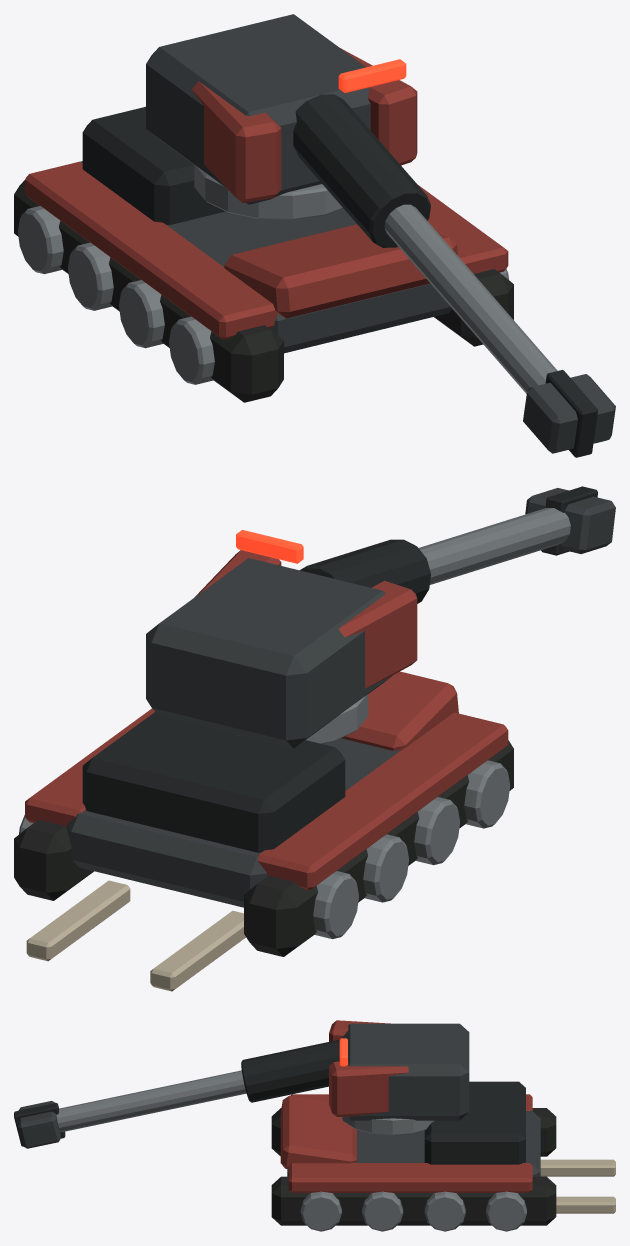
Rendered from ff_en_art_01_v1.glb.
3 views of the same model, one above another, from view 1: azimuth 30°, elevation 25°; view 2: azimuth 150°, elevation 25°; view 3: azimuth 270°, elevation 25° (orthographic). The views are drawn at different scales.
Parts seen in each view (by area): view 1: FF_EN_ART_01_M_EnemyCrimsonArmor_runtime, turret_yaw_M_EnemyObsidianArmor_runtime, turret_yaw_M_EnemyGunmetal_runtime, turret_yaw_M_EnemyRecess_runtime, FF_EN_ART_01_M_EnemyObsidianArmor_runtime, turret_yaw_M_EnemyCrimsonArmor_runtime, FF_EN_ART_01_M_EnemyGunmetal_runtime, FF_EN_ART_01_M_EnemyRecess_runtime, FF_EN_ART_01_M_EnemyTrack_runtime, turret_yaw_M_EnemySignal_runtime; view 2: turret_yaw_M_EnemyObsidianArmor_runtime, FF_EN_ART_01_M_EnemyRecess_runtime, FF_EN_ART_01_M_EnemyCrimsonArmor_runtime, FF_EN_ART_01_M_EnemyObsidianArmor_runtime, FF_EN_ART_01_M_EnemyTrack_runtime, FF_EN_ART_01_M_EnemyGunmetal_runtime, turret_yaw_M_EnemyGunmetal_runtime, FF_EN_ART_01_M_EnemyMarking_runtime, turret_yaw_M_EnemyCrimsonArmor_runtime, turret_yaw_M_EnemyRecess_runtime, turret_yaw_M_EnemySignal_runtime; view 3: FF_EN_ART_01_M_EnemyCrimsonArmor_runtime, turret_yaw_M_EnemyObsidianArmor_runtime, FF_EN_ART_01_M_EnemyRecess_runtime, FF_EN_ART_01_M_EnemyTrack_runtime, turret_yaw_M_EnemyGunmetal_runtime, FF_EN_ART_01_M_EnemyGunmetal_runtime, turret_yaw_M_EnemyRecess_runtime, turret_yaw_M_EnemyCrimsonArmor_runtime, FF_EN_ART_01_M_EnemyObsidianArmor_runtime, FF_EN_ART_01_M_EnemyMarking_runtime.
Boxes of the visible parts, x1,y1,x2,y2 form: FF_EN_ART_01_M_EnemyCrimsonArmor_runtime: (25,161,508,339); turret_yaw_M_EnemyObsidianArmor_runtime: (146,14,615,453); turret_yaw_M_EnemyGunmetal_runtime: (194,165,557,393); turret_yaw_M_EnemyRecess_runtime: (293,94,597,457); FF_EN_ART_01_M_EnemyObsidianArmor_runtime: (80,161,452,353); turret_yaw_M_EnemyCrimsonArmor_runtime: (192,48,417,203); FF_EN_ART_01_M_EnemyGunmetal_runtime: (17,206,508,384); FF_EN_ART_01_M_EnemyRecess_runtime: (82,106,225,225); FF_EN_ART_01_M_EnemyTrack_runtime: (14,180,513,402); turret_yaw_M_EnemySignal_runtime: (338,59,406,92); turret_yaw_M_EnemyObsidianArmor_runtime: (146,488,615,748); FF_EN_ART_01_M_EnemyRecess_runtime: (82,712,345,852); FF_EN_ART_01_M_EnemyCrimsonArmor_runtime: (25,671,508,890); FF_EN_ART_01_M_EnemyObsidianArmor_runtime: (66,738,401,907); FF_EN_ART_01_M_EnemyTrack_runtime: (14,740,513,956); FF_EN_ART_01_M_EnemyGunmetal_runtime: (19,760,510,939); turret_yaw_M_EnemyGunmetal_runtime: (236,508,570,744); FF_EN_ART_01_M_EnemyMarking_runtime: (26,880,245,991); turret_yaw_M_EnemyCrimsonArmor_runtime: (194,550,417,688); turret_yaw_M_EnemyRecess_runtime: (300,486,597,603); turret_yaw_M_EnemySignal_runtime: (236,530,303,563); FF_EN_ART_01_M_EnemyCrimsonArmor_runtime: (280,1094,532,1192); turret_yaw_M_EnemyObsidianArmor_runtime: (18,1023,469,1148); FF_EN_ART_01_M_EnemyRecess_runtime: (424,1081,525,1164); FF_EN_ART_01_M_EnemyTrack_runtime: (271,1108,556,1225); turret_yaw_M_EnemyGunmetal_runtime: (56,1070,434,1135); FF_EN_ART_01_M_EnemyGunmetal_runtime: (300,1191,526,1231); turret_yaw_M_EnemyRecess_runtime: (14,1039,339,1146); turret_yaw_M_EnemyCrimsonArmor_runtime: (329,1020,408,1116); FF_EN_ART_01_M_EnemyObsidianArmor_runtime: (287,1110,540,1176); FF_EN_ART_01_M_EnemyMarking_runtime: (540,1159,615,1213).
Bounding box in the file's own units: 3.52 × 2.83 × 9.62.
